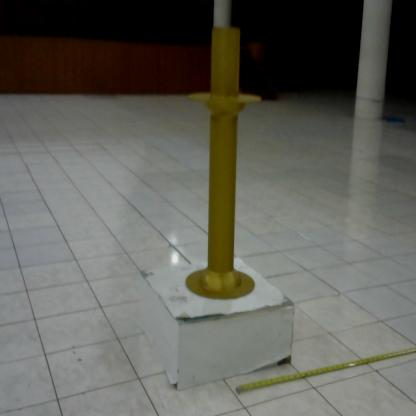pole: (183, 22, 273, 307)
